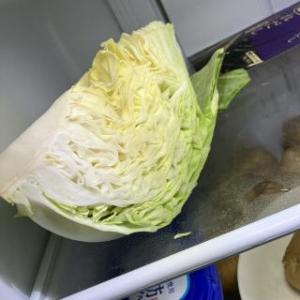cabbage: (0, 20, 250, 246)
